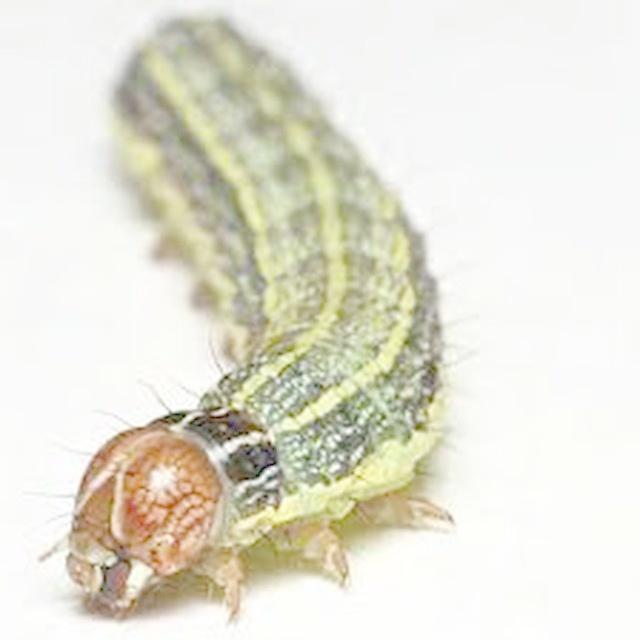gusano_cogollero: (32, 0, 470, 627)
